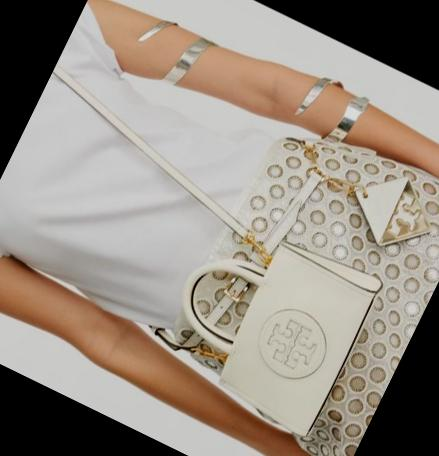TORY-BURCH: (245, 298, 338, 390)
